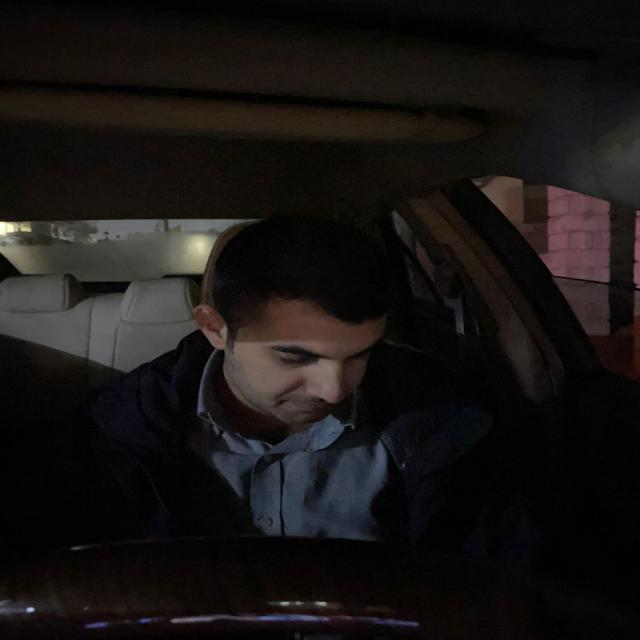drowsy: (195, 202, 396, 433)
